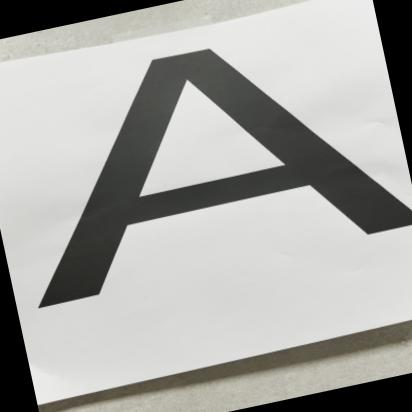seat: (0, 0, 404, 344)
